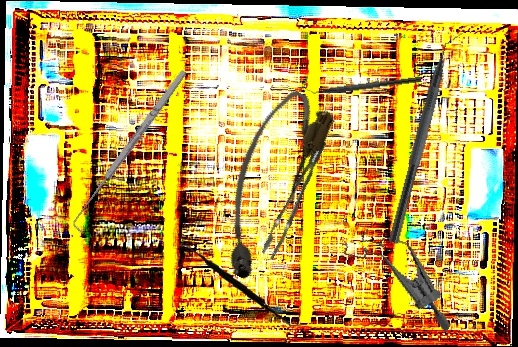Cannula: (196, 82, 340, 286)
Chopper: (387, 23, 468, 249), (302, 68, 422, 99)
Hook Surgical: (65, 66, 196, 235)
Spatula Surgical: (171, 242, 309, 327)
Speculum: (326, 221, 471, 334)
Tissue Forceps: (250, 139, 342, 260)
